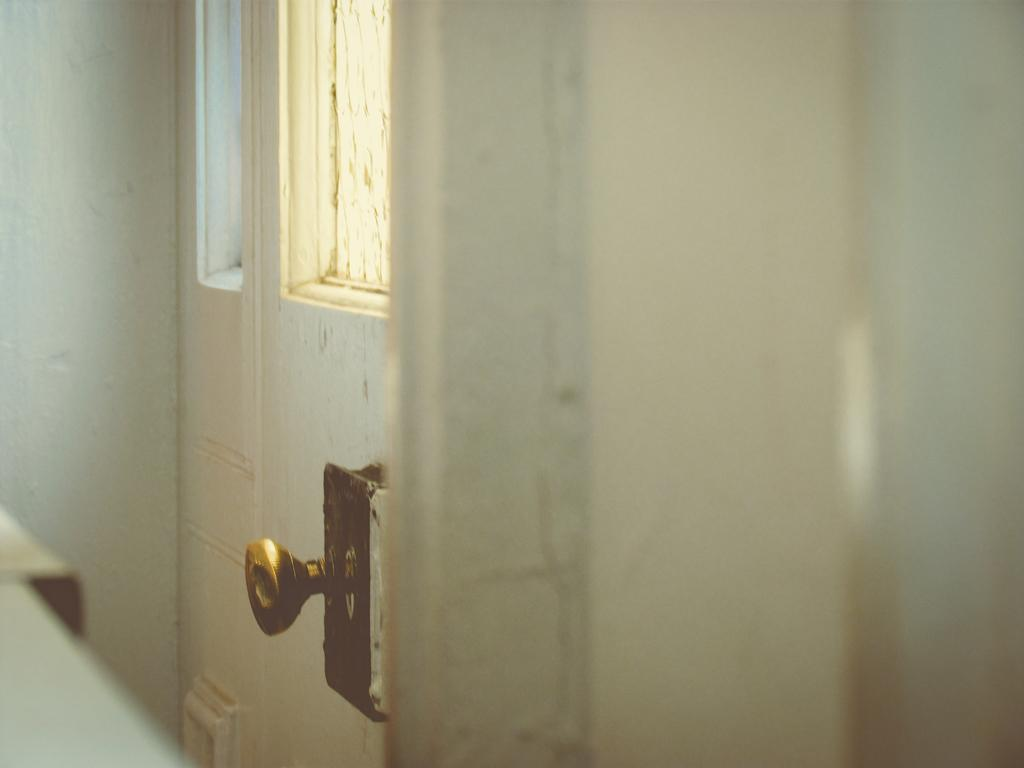handle: (242, 524, 328, 641)
